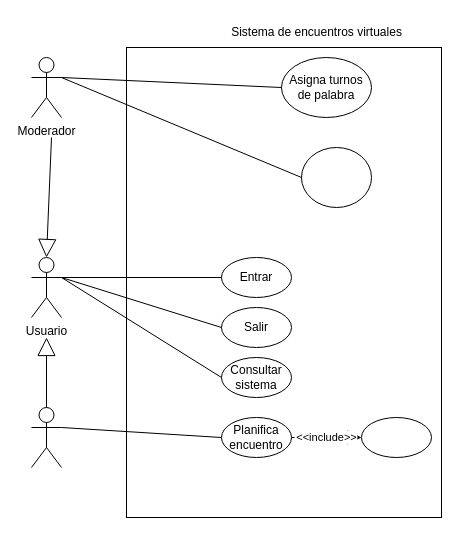
Some shapes in this 459 by 535 pixel diagram are drawn without their labels. Here are the shapes that lost their labels. From the top down, the box of each, then its label:
(300, 146, 372, 208): Da por concluido el encuentro
(30, 406, 62, 468): Manager
(360, 416, 432, 458): Designa moderador
